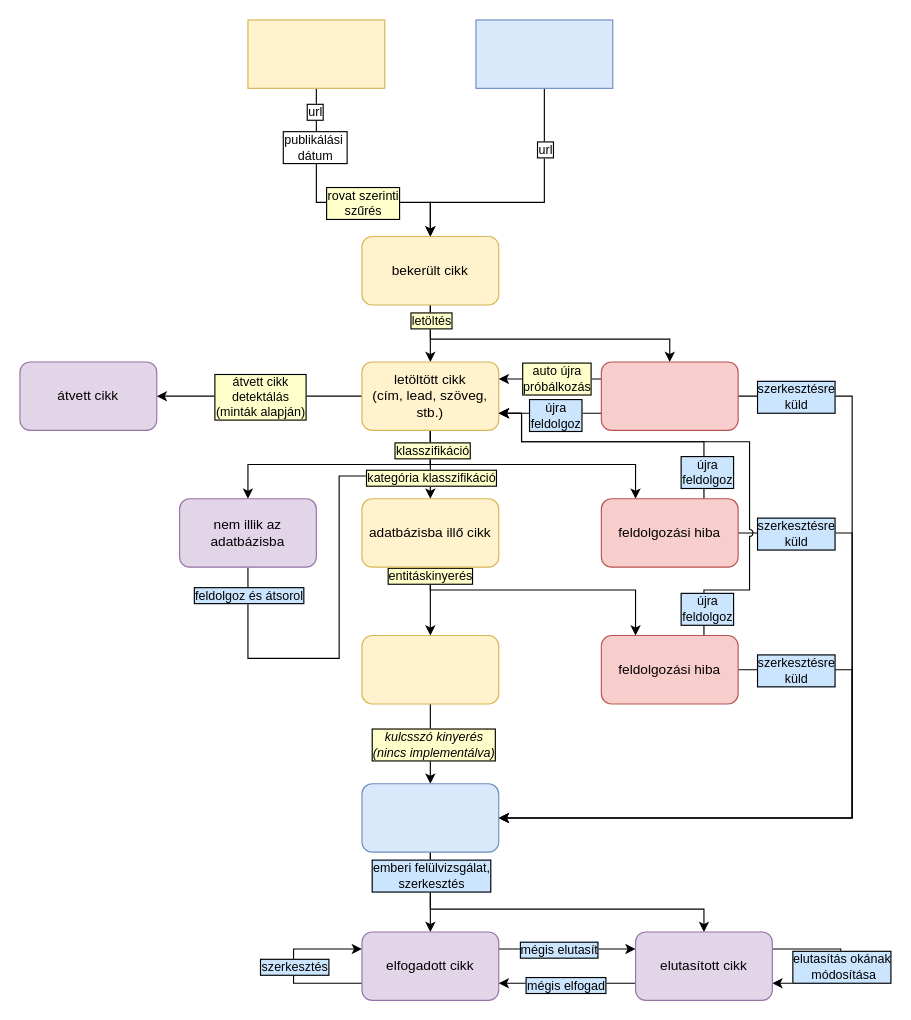
The diagram is 911 pixels wide and 1020 high, and some of its shapes have lost their labels. The box of each missing label's shape, as (x1, y1, x2, y2) in pixels:
cikk entitásokkal: (361, 634, 499, 704)
ellenőrizendő cikk: (361, 783, 499, 852)
letöltési hiba: (600, 361, 738, 430)
manuális: (475, 19, 613, 88)
rss: (247, 19, 385, 88)
